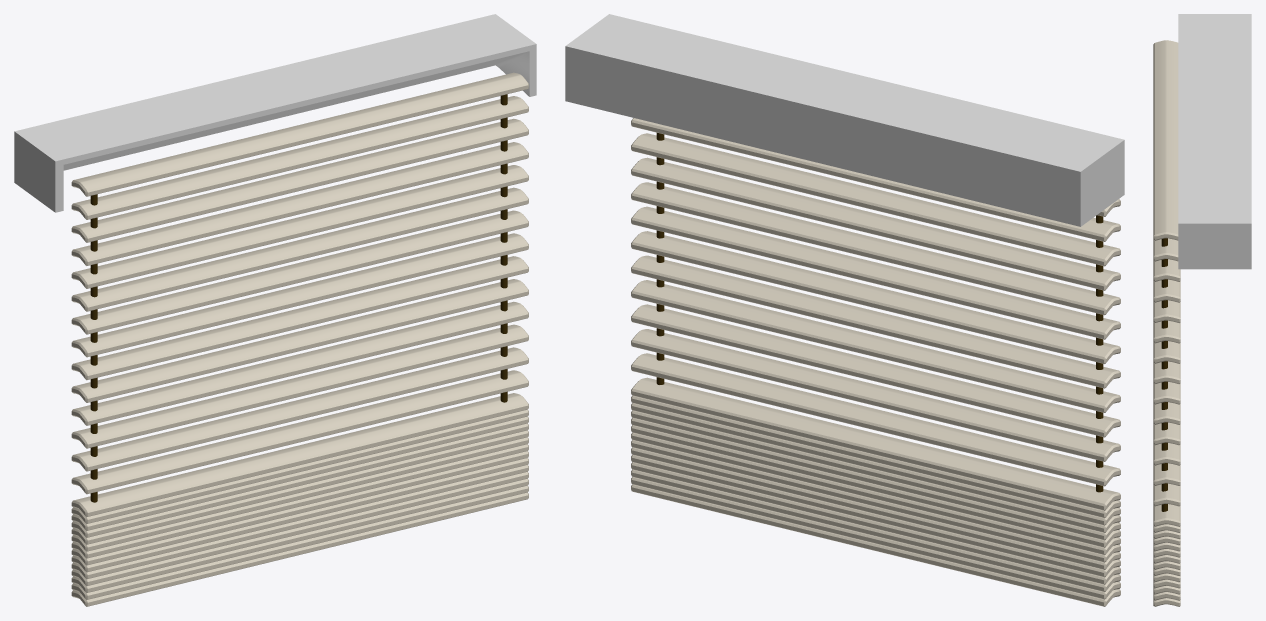
Rendered from blind_up.fbx.
3 renders of one model, left to right at view 1: azimuth 30°, elevation 25°; view 2: azimuth 150°, elevation 25°; view 3: azimuth 270°, elevation 25°, orthographic. The views are drawn at different scales.
Visible parts, largest first — view 1: cover, pCube53, pCube44, pCube40, pCube39, pCube45, pCube47, pCube46, pCube52, pCube49, pCube48, pCube43 (+19 smaller); view 2: cover, pCube46, pCube42, pCube41, pCube40, pCube48, pCube47, pCube44, pCube39, pCube45, pCube43, pCube38 (+14 smaller); view 3: cover, pCube53, black1, pCube49, pCube38, pCube44, pCube47, pCube41, pCube39, pCube46, pCube48, pCube45 (+18 smaller).
Boxes of the visible parts, x1,y1,x2,y2 form: cover: (14, 14, 536, 212); pCube53: (71, 72, 528, 196); pCube44: (71, 256, 528, 380); pCube40: (71, 347, 528, 471); pCube39: (71, 370, 528, 494); pCube45: (71, 233, 528, 357); pCube47: (71, 187, 528, 311); pCube46: (71, 210, 528, 334); pCube52: (71, 96, 528, 219); pCube49: (71, 142, 528, 265); pCube48: (71, 165, 528, 288); pCube43: (71, 279, 528, 402); cover: (565, 14, 1124, 226); pCube46: (631, 182, 1120, 315); pCube42: (631, 280, 1120, 412); pCube41: (631, 304, 1120, 437); pCube40: (631, 329, 1120, 461); pCube48: (631, 133, 1120, 266); pCube47: (631, 157, 1120, 290); pCube44: (631, 231, 1120, 363); pCube39: (631, 353, 1120, 486); pCube45: (631, 206, 1120, 339); pCube43: (631, 255, 1120, 388); pCube38: (631, 377, 1120, 510); cover: (1178, 14, 1251, 269); pCube53: (1153, 40, 1178, 240); black1: (1161, 238, 1167, 511); pCube49: (1153, 279, 1180, 302); pCube38: (1153, 504, 1180, 526); pCube44: (1153, 382, 1180, 404); pCube47: (1153, 320, 1180, 343); pCube41: (1153, 443, 1180, 465); pCube39: (1153, 483, 1180, 506); pCube46: (1153, 341, 1180, 363); pCube48: (1153, 300, 1180, 322); pCube45: (1153, 361, 1180, 383).
Size of the model in its own units: 9.64 by 8.43 by 1.91.
